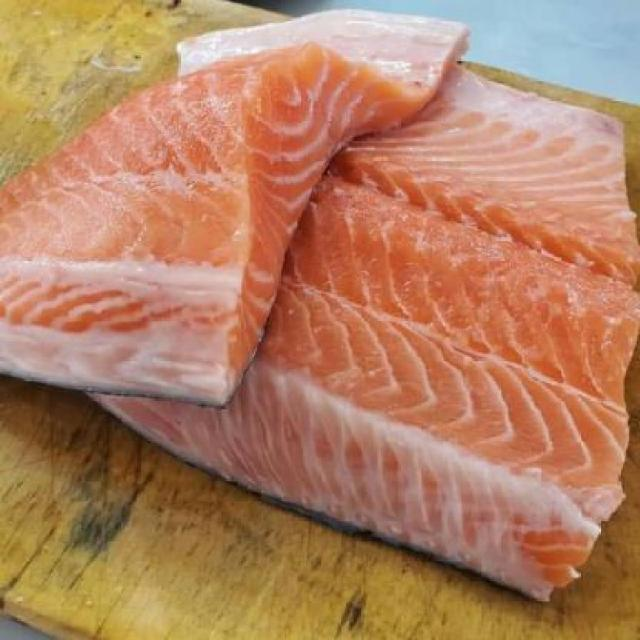salmon: (149, 46, 640, 610), (1, 12, 477, 404)
